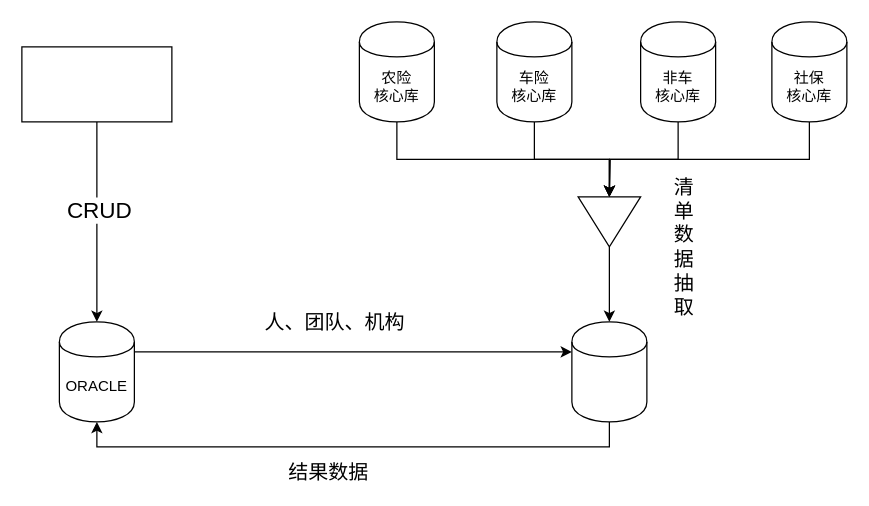
This 869x506 diagram has some shape labels left out. The shapes that lost their labels are listed below. From the top down, each one's centre as x and y in pixels, then its label:
the point at 96,84: 人力资源管理系统
the point at 609,221: 清分规则
the point at 609,371: GP
